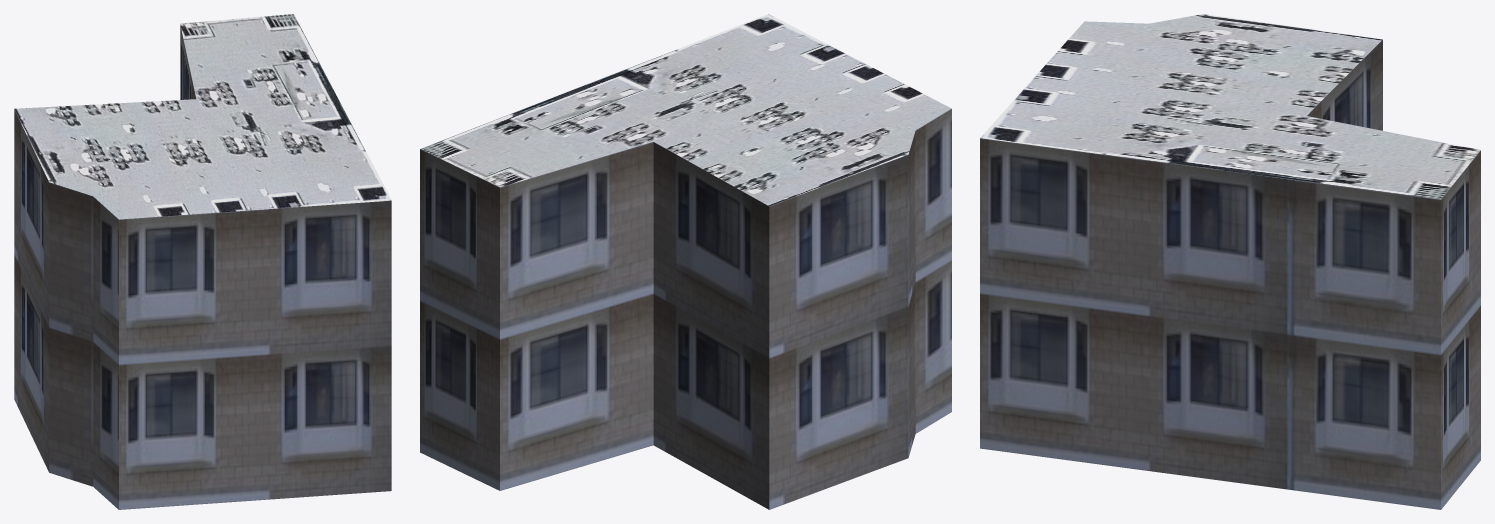
The model's file is ResTex__5235.fbx.
3 views of the same model, side by side, from view 1: azimuth 30°, elevation 25°; view 2: azimuth 150°, elevation 25°; view 3: azimuth 270°, elevation 25° (orthographic). The views are drawn at different scales.
Visible parts, largest first — view 1: CityEngineMaterial_3_m, CityEngineMaterial_m; view 2: CityEngineMaterial_3_m, CityEngineMaterial_m; view 3: CityEngineMaterial_3_m, CityEngineMaterial_m.
Part boxes in pixels (x1,y1,x2,y2): CityEngineMaterial_3_m: (14, 25, 391, 509); CityEngineMaterial_m: (14, 14, 391, 219); CityEngineMaterial_3_m: (420, 108, 951, 509); CityEngineMaterial_m: (421, 14, 951, 206); CityEngineMaterial_3_m: (980, 40, 1480, 509); CityEngineMaterial_m: (980, 14, 1480, 199).
Bounding box in the file's own units: 7.7 × 6 × 8.78.
Materials: 2 (2 with a texture image).
